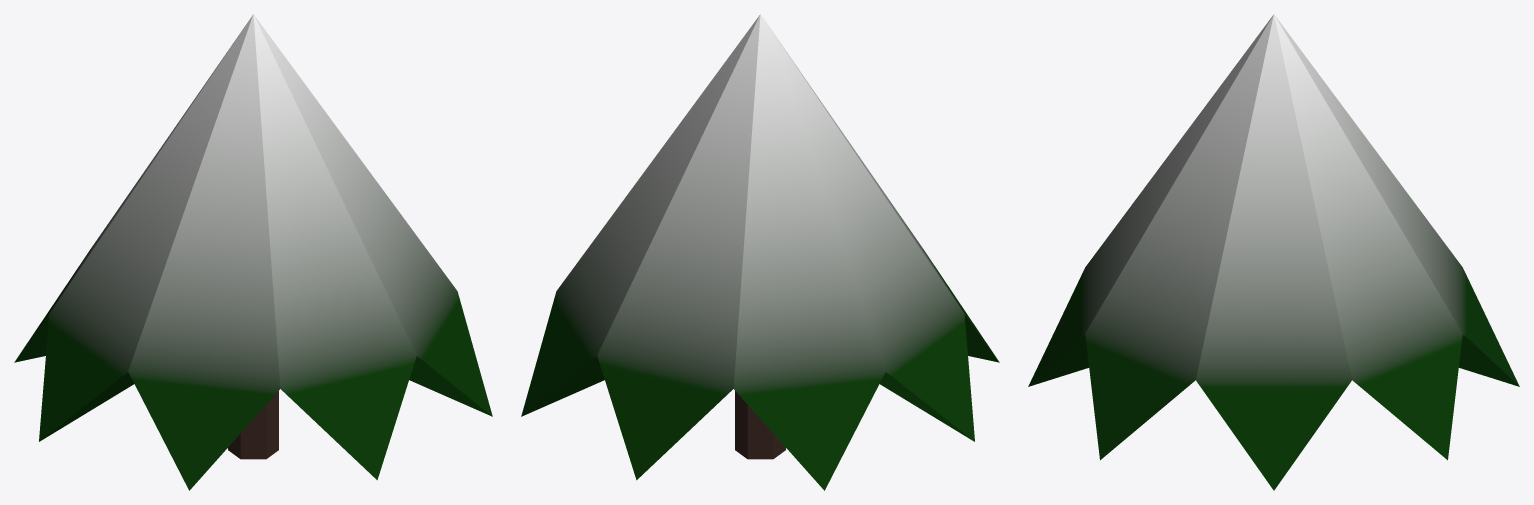
File: Tree7.glb
The picture shows the model from 3 angles, left to right: view 1: azimuth 30°, elevation 25°; view 2: azimuth 150°, elevation 25°; view 3: azimuth 270°, elevation 25°; orthographic projection.
Parts seen in each view (by area): view 1: Leaves7, Wood7; view 2: Leaves7, Wood7; view 3: Leaves7.
Part boxes in pixels (box(x1,y1,x2,y2)): Leaves7: box(14, 14, 492, 490); Wood7: box(228, 391, 278, 459); Leaves7: box(521, 14, 999, 490); Wood7: box(735, 391, 785, 459); Leaves7: box(1028, 14, 1519, 490).
Bounding box in the file's own units: 64.18 × 62.31 × 64.18.
Materials: 2 (2 with a texture image).
